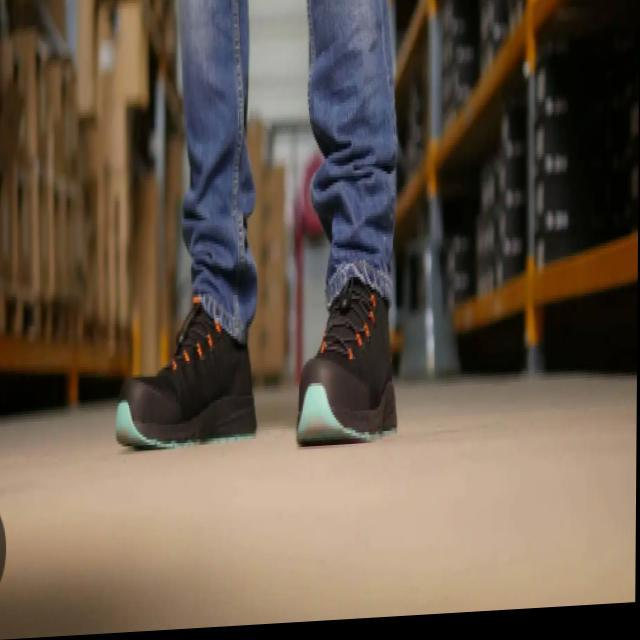boots: (113, 246, 403, 465)
